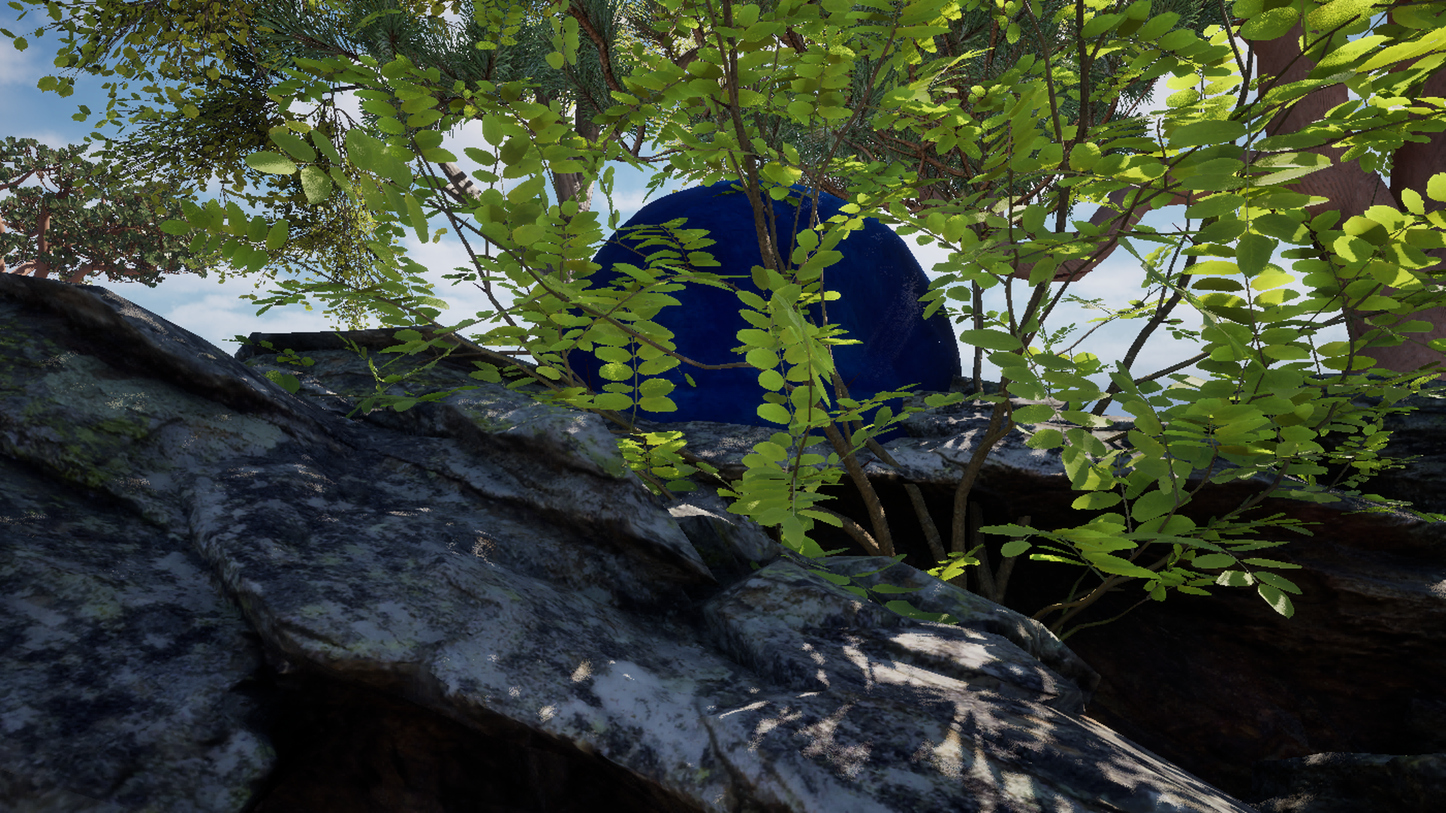Piplup: (250, 0, 1289, 813)
